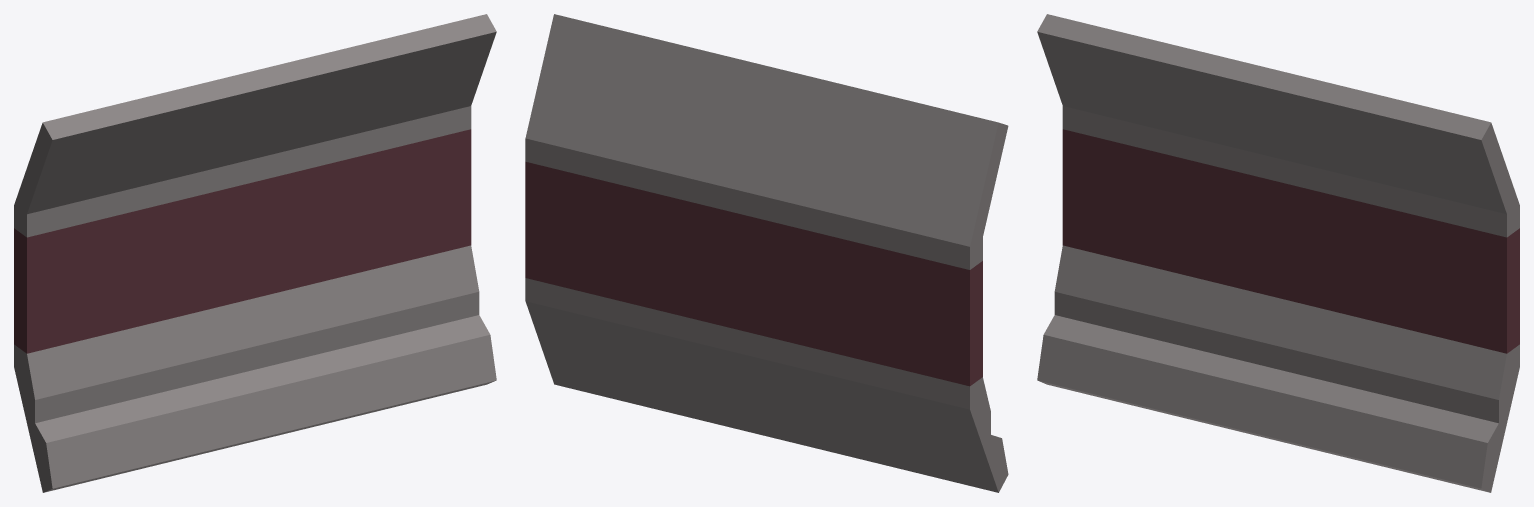
File: scifi-scifi-wall-corridor-stripe.glb
The picture shows the model from 3 angles, left to right: view 1: azimuth 30°, elevation 25°; view 2: azimuth 150°, elevation 25°; view 3: azimuth 330°, elevation 25°; orthographic projection.
Visible parts, largest first — view 1: scifi-wall-corridor-stipe; view 2: scifi-wall-corridor-stipe; view 3: scifi-wall-corridor-stipe.
Boxes of the visible parts, <box> form: scifi-wall-corridor-stipe: <box>14,14,496,492</box>; scifi-wall-corridor-stipe: <box>525,14,1008,492</box>; scifi-wall-corridor-stipe: <box>1037,14,1519,492</box>.
Size of the model in its own units: 4 by 3.19 by 0.6.
